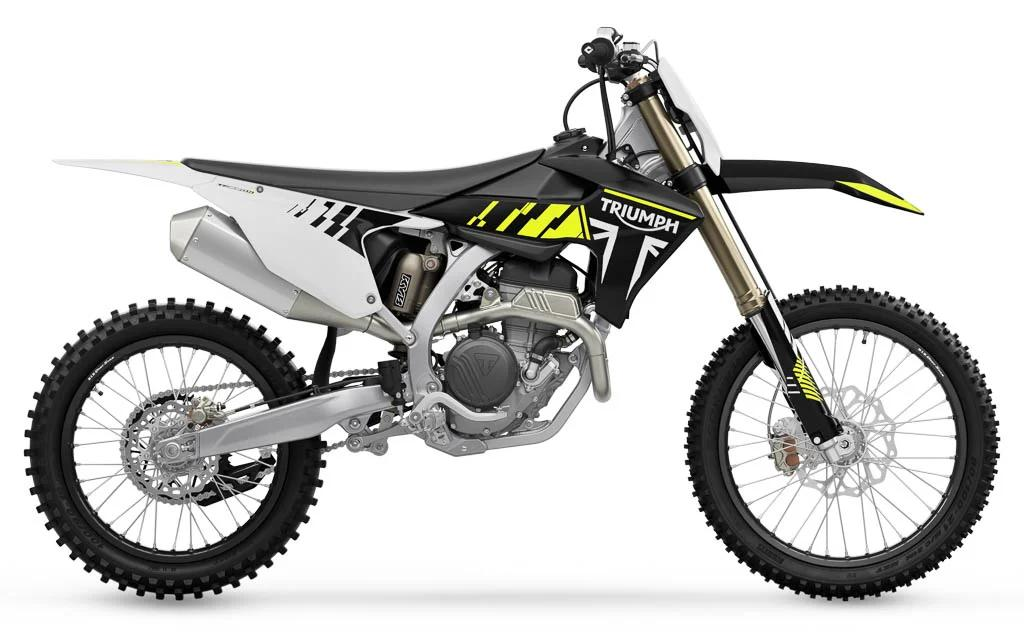motorcycle: (24, 23, 1008, 614)
